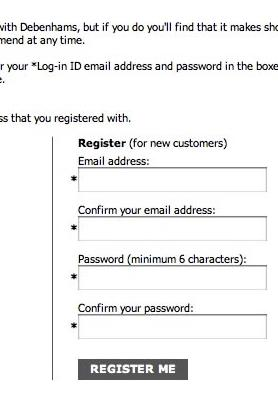button: (78, 359, 189, 380)
field: (75, 165, 267, 193), (75, 263, 267, 291), (76, 214, 267, 242), (75, 313, 269, 340)
field_with_label: (74, 204, 268, 245), (73, 303, 269, 343), (74, 254, 269, 293), (74, 157, 268, 195)
